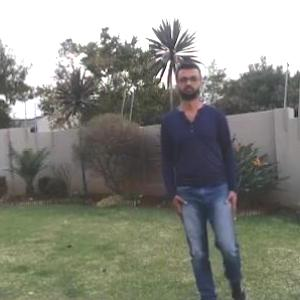follow: (155, 27, 246, 299)
